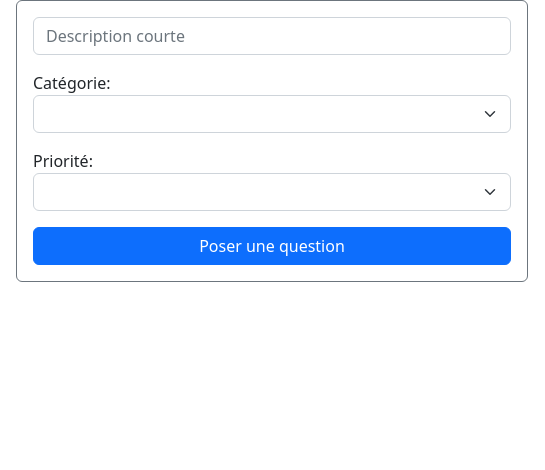
Test: QuestionForm › Doit afficher une erreur si aucune catégorie est selectionné lors du click sur le bouton.
Type "question" into the field with placeholder "Description courte". click: point(272, 36)
box: [33,17,511,55]
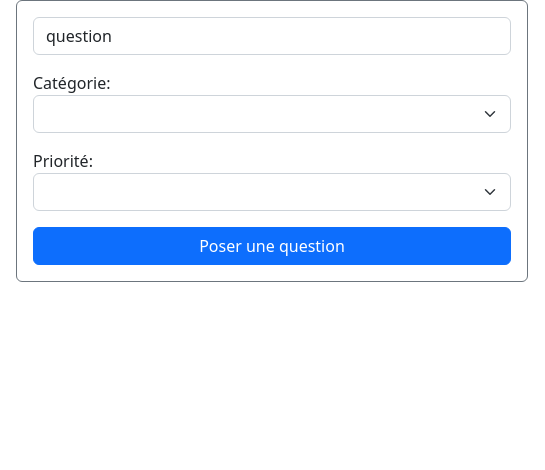
Select "P1" in the dropdown with id "select-priority". click: point(272, 192)
box: [33,173,511,211]
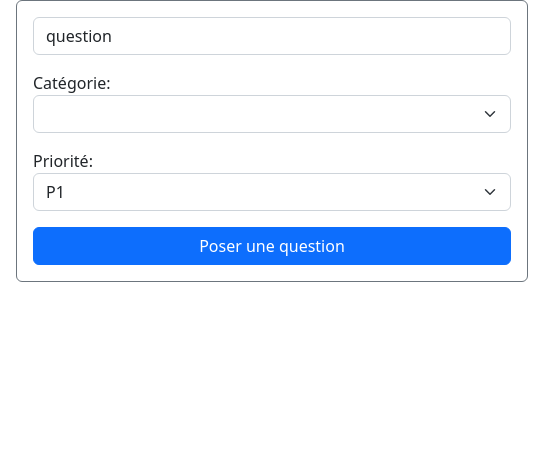
Click the button "Poser une question". click: point(272, 246)
box: [33,227,511,265]
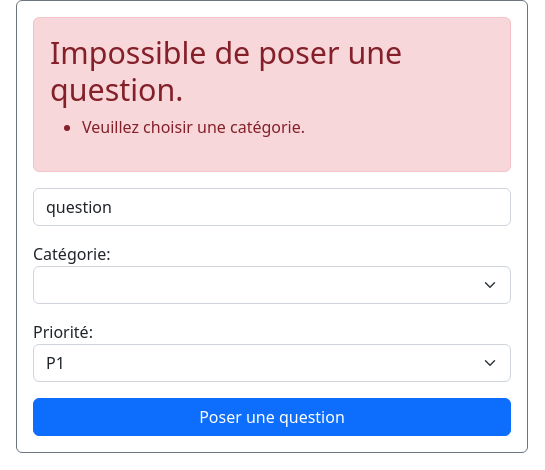
Check: the form shows "Veuillez choisir une catégorie.", box [82,116,305,138]
